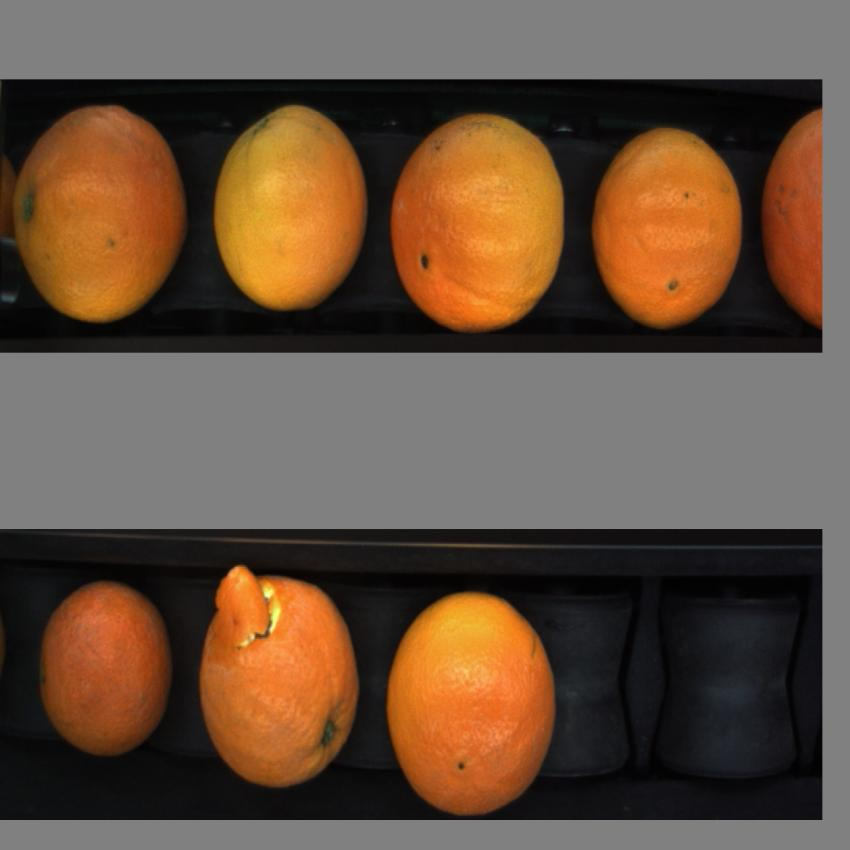Buen estado: (387, 104, 574, 336), (383, 586, 566, 821), (12, 105, 193, 325), (588, 112, 748, 334), (211, 102, 372, 317)
Mal estado: (196, 559, 366, 790), (36, 576, 174, 753), (756, 102, 822, 326)
